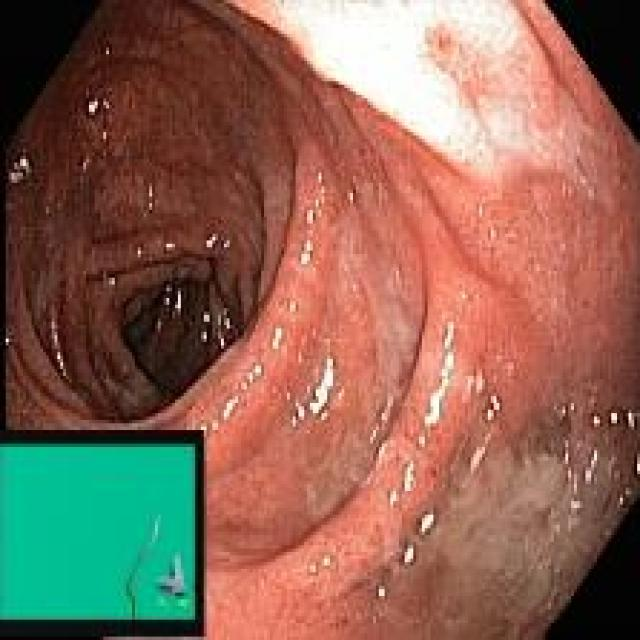ulcerative-colitis-grade-1: (128, 3, 640, 636)
